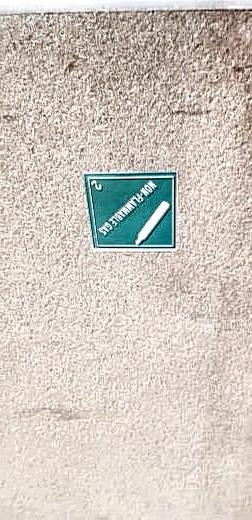non-flammable-gas: (86, 174, 174, 253)
